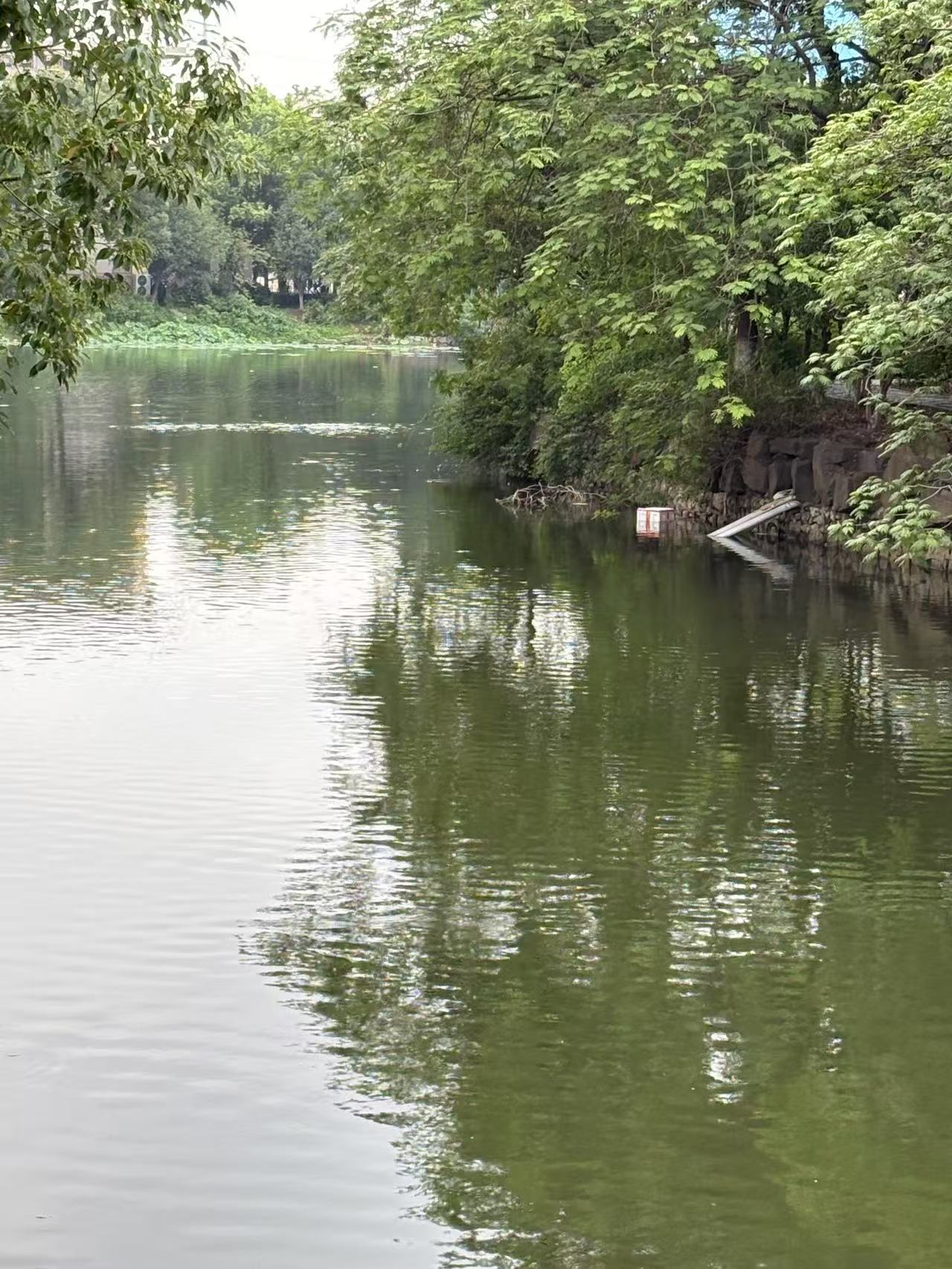Plastic wastes: (636, 501, 676, 540)
